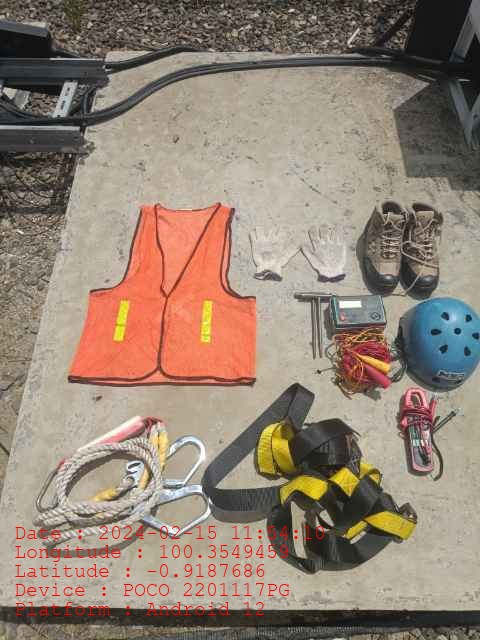HELM: (399, 297, 480, 392)
ROMPI: (69, 204, 252, 387)
SARUNG_TANGAN: (247, 224, 299, 281), (298, 224, 348, 283)
SEPATU: (361, 199, 441, 292)
